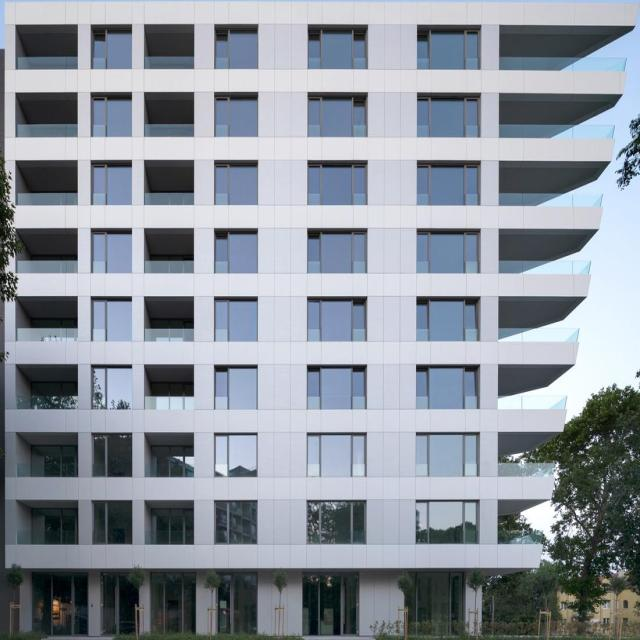Railing: (499, 56, 627, 69), (499, 124, 615, 138), (499, 192, 603, 206), (494, 395, 568, 409), (498, 262, 590, 273), (498, 329, 579, 341), (16, 460, 78, 473), (18, 530, 80, 543), (16, 56, 78, 68), (16, 124, 78, 136), (17, 190, 79, 202), (16, 260, 78, 272), (16, 327, 78, 339), (13, 397, 75, 409), (496, 463, 558, 475), (144, 123, 194, 136), (144, 189, 194, 202), (144, 259, 194, 272), (144, 326, 194, 339), (144, 55, 194, 67), (142, 395, 192, 407), (143, 460, 193, 472), (146, 530, 196, 542), (500, 533, 544, 544)
door: (215, 575, 236, 635), (341, 574, 360, 636), (70, 572, 88, 634)
plant: (514, 384, 639, 635)
wall: (4, 0, 639, 639)
windows: (302, 572, 359, 633), (406, 571, 463, 632), (30, 572, 86, 634), (152, 573, 195, 635), (216, 573, 256, 634), (308, 437, 366, 476), (310, 507, 368, 546), (418, 98, 477, 136), (419, 164, 478, 202), (415, 367, 474, 405), (420, 505, 479, 543), (309, 33, 367, 71), (419, 30, 477, 68), (308, 101, 366, 139), (310, 167, 368, 205), (309, 237, 367, 275), (308, 304, 366, 342), (306, 370, 364, 408), (418, 435, 476, 473), (419, 235, 477, 272), (419, 302, 477, 339), (110, 574, 140, 636), (213, 435, 254, 475), (216, 505, 257, 545), (214, 31, 256, 70), (214, 235, 256, 274), (218, 368, 258, 408), (213, 99, 254, 138), (215, 165, 256, 204), (214, 302, 255, 341), (93, 97, 133, 136), (94, 163, 134, 202), (93, 300, 133, 339), (93, 369, 133, 408), (93, 433, 132, 473), (95, 504, 135, 543), (94, 29, 133, 68), (94, 233, 133, 272)
